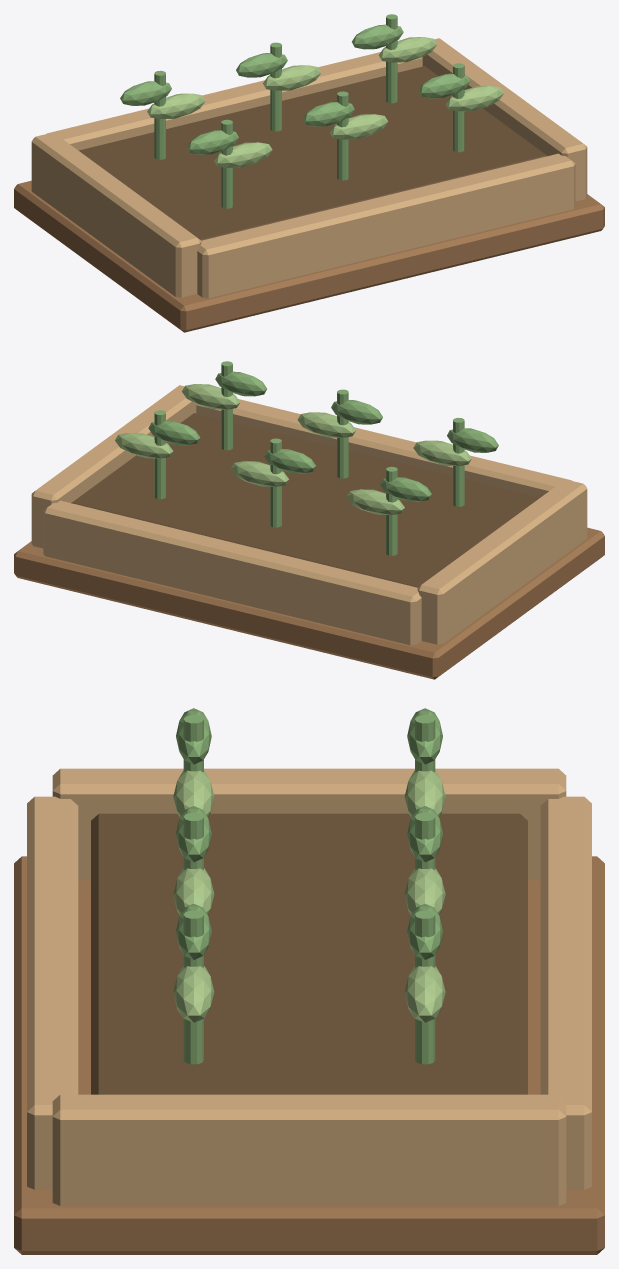
The picture shows the model from 3 angles, top to bottom: view 1: azimuth 30°, elevation 25°; view 2: azimuth 150°, elevation 25°; view 3: azimuth 270°, elevation 25°; orthographic projection. The views are drawn at different scales.
Visible parts, largest first — view 1: village-seedling-tray-01; view 2: village-seedling-tray-01; view 3: village-seedling-tray-01.
Part boxes in pixels (x1,y1,x2,y2): village-seedling-tray-01: [14, 14, 604, 332]; village-seedling-tray-01: [14, 361, 604, 679]; village-seedling-tray-01: [14, 708, 604, 1254].
Size of the model in its own units: 0.66 by 0.225 by 0.46.
